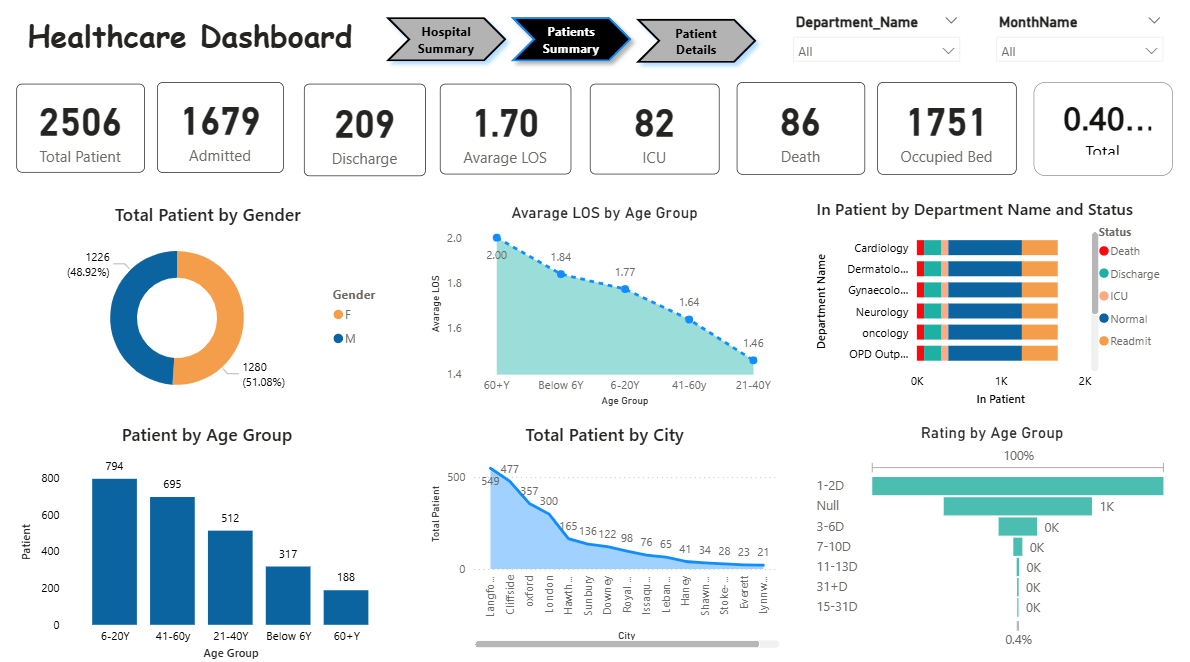

The page's visual inventory and layout, read from the dashboard file:
{"tool":"powerbi","page":{"name":"Patients Summary","canvas":[1280,720],"ordinal":2},"visuals":[{"type":"textbox","box":[10,20,400,83.3],"z":0},{"type":"shape","box":[410,20,146.7,65],"z":1000},{"type":"shape","box":[543.3,20,146.7,65],"z":2000},{"type":"shape","box":[676.7,21.7,146.7,65],"z":3000},{"type":"slicer","fields":{"Values":["Department.Department_Name"]},"box":[843.3,20,198.3,63.3],"z":4000},{"type":"slicer","fields":{"Values":["Calendar_date.MonthName"]},"box":[1060,20,198.3,63.3],"z":5000},{"type":"card","fields":{"Values":["Measure.Total Patient"]},"box":[25,100,136.7,95],"z":6000},{"type":"card","fields":{"Values":["Measure.In Patient"]},"box":[175,98.3,135,96.7],"z":7000},{"type":"card","fields":{"Values":["Measure.Total Discharge"]},"box":[331.7,100,130,98.3],"z":8000},{"type":"card","fields":{"Values":["Measure.Occupied Bed"]},"box":[943.3,98.3,148.3,98.3],"z":9000},{"type":"card","fields":{"Values":["Measure.Death"]},"box":[793.3,98.3,136.7,98.3],"z":10000},{"type":"card","fields":{"Values":["Measure.ICU"]},"box":[636.7,100,138.3,96.7],"z":11000},{"type":"card","fields":{"Values":["Measure.Avarage LOS"]},"box":[476.7,100,140,96.7],"z":12000},{"type":"areaChart","title":"Avarage LOS by Age Group","fields":{"Category":["Detail data dataset.Age Bucket"],"Y":["Measure.Avarage LOS"]},"box":[461.7,226.7,381.7,221.7],"z":14000},{"type":"areaChart","fields":{"Y":["Measure.Total Patient"],"Category":["Detail data dataset.City"]},"box":[461.7,461.7,381.7,245],"z":18000},{"type":"funnel","title":"Rating by Age Group","fields":{"Y":["Measure.Total Patient"],"Category":["Detail data dataset.Custom"]},"box":[873.3,461.7,385,245],"z":19000},{"type":"cardVisual","fields":{"Data":["Measure.Total Revenue"]},"box":[1110,98.3,148.3,100],"z":20000},{"type":"donutChart","fields":{"Category":["Detail data dataset.Gender"],"Y":["Measure.Total Patient"]},"box":[25,226.7,408.3,221.7],"z":20001},{"type":"barChart","fields":{"Category":["Department.Department_Name"],"Y":["Measure.In Patient"],"Series":["Detail data dataset.Status"]},"box":[873.3,221.7,385,226.7],"z":20002},{"type":"columnChart","fields":{"Y":["Measure.Total Patient"],"Category":["Detail data dataset.Age Bucket"]},"box":[25,461.7,406.7,258.3],"z":20003}]}

Visuals, with their boxes in screenshot pixels (x1, y1, x2, y2), scaled from the page's 1280x720 canvas onto the 1190x662 screenshot:
textbox: l=9, t=18, r=381, b=95
shape: l=381, t=18, r=518, b=78
shape: l=505, t=18, r=641, b=78
shape: l=629, t=20, r=766, b=80
slicer - Department.Department_Name: l=784, t=18, r=968, b=77
slicer - Calendar_date.MonthName: l=985, t=18, r=1170, b=77
card - Measure.Total Patient: l=23, t=92, r=150, b=179
card - Measure.In Patient: l=163, t=90, r=288, b=179
card - Measure.Total Discharge: l=308, t=92, r=429, b=182
card - Measure.Occupied Bed: l=877, t=90, r=1015, b=181
card - Measure.Death: l=738, t=90, r=865, b=181
card - Measure.ICU: l=592, t=92, r=721, b=181
card - Measure.Avarage LOS: l=443, t=92, r=573, b=181
"Avarage LOS by Age Group" areaChart: l=429, t=208, r=784, b=412
areaChart - Measure.Total Patient x Detail data dataset.City: l=429, t=425, r=784, b=650
"Rating by Age Group" funnel: l=812, t=425, r=1170, b=650
cardVisual - Measure.Total Revenue: l=1032, t=90, r=1170, b=182
donutChart - Detail data dataset.Gender x Measure.Total Patient: l=23, t=208, r=403, b=412
barChart - Department.Department_Name x Measure.In Patient: l=812, t=204, r=1170, b=412
columnChart - Measure.Total Patient x Detail data dataset.Age Bucket: l=23, t=425, r=401, b=661
